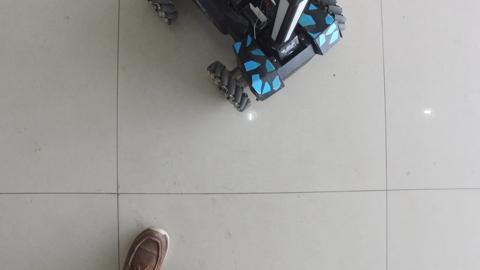chariot: (147, 2, 338, 110)
